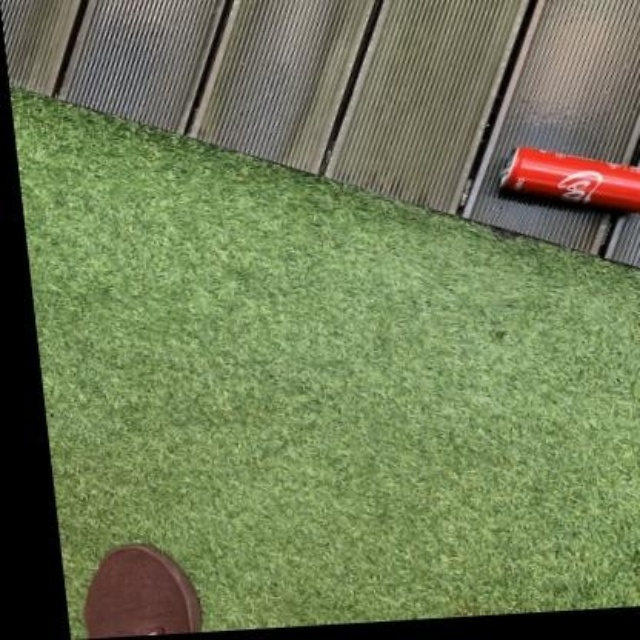trash: (500, 148, 638, 211)
